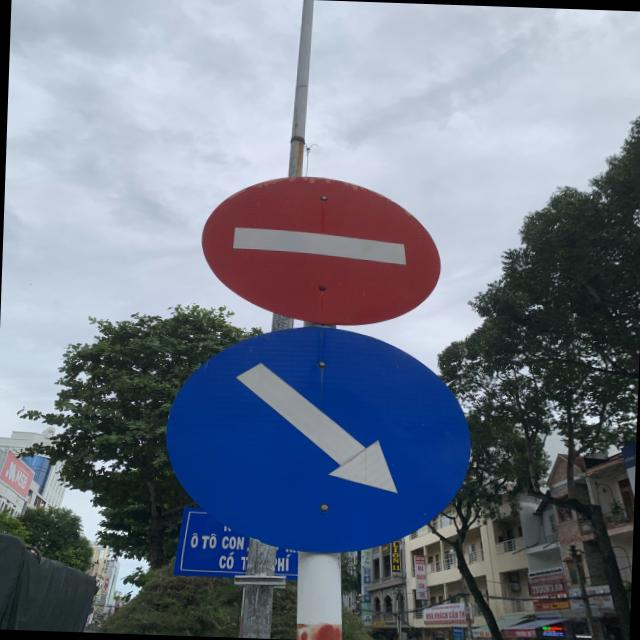Cam_Di_Nguoc_Chieu: (197, 170, 451, 326)
Chi_Huong_Di_Phai: (165, 322, 478, 563)
